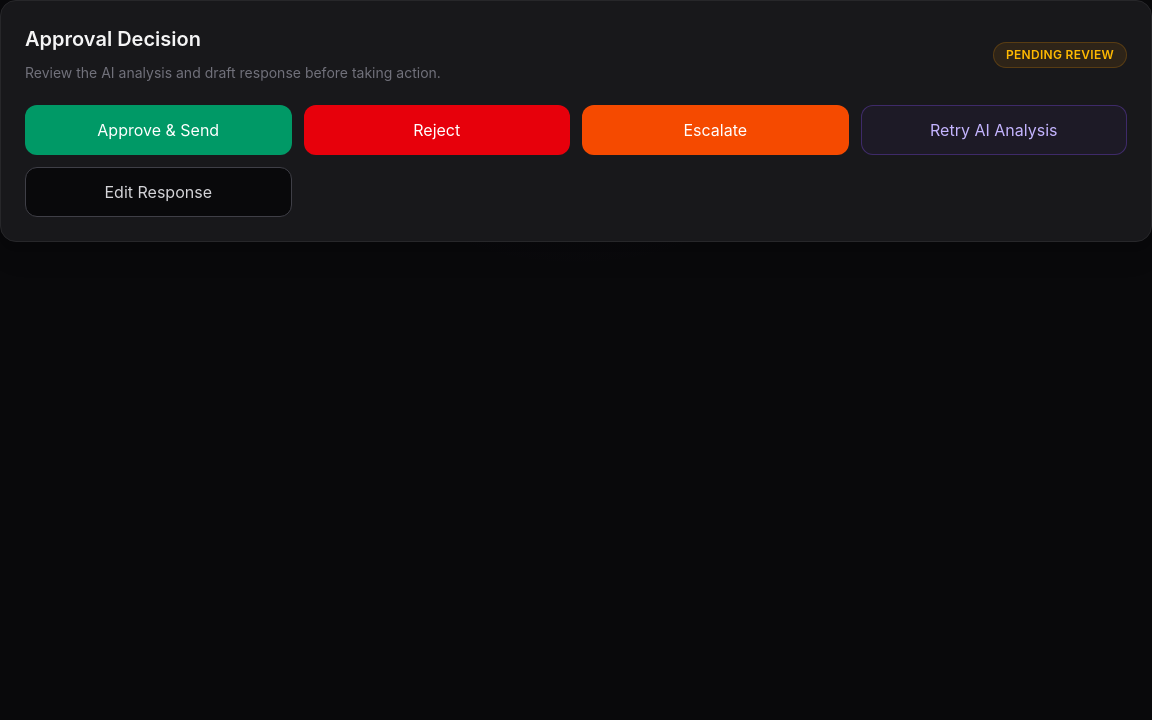
ApprovalActions › requires confirmation before approving
Click the button "Approve & Send" at (158, 130), box [25,105,292,155]
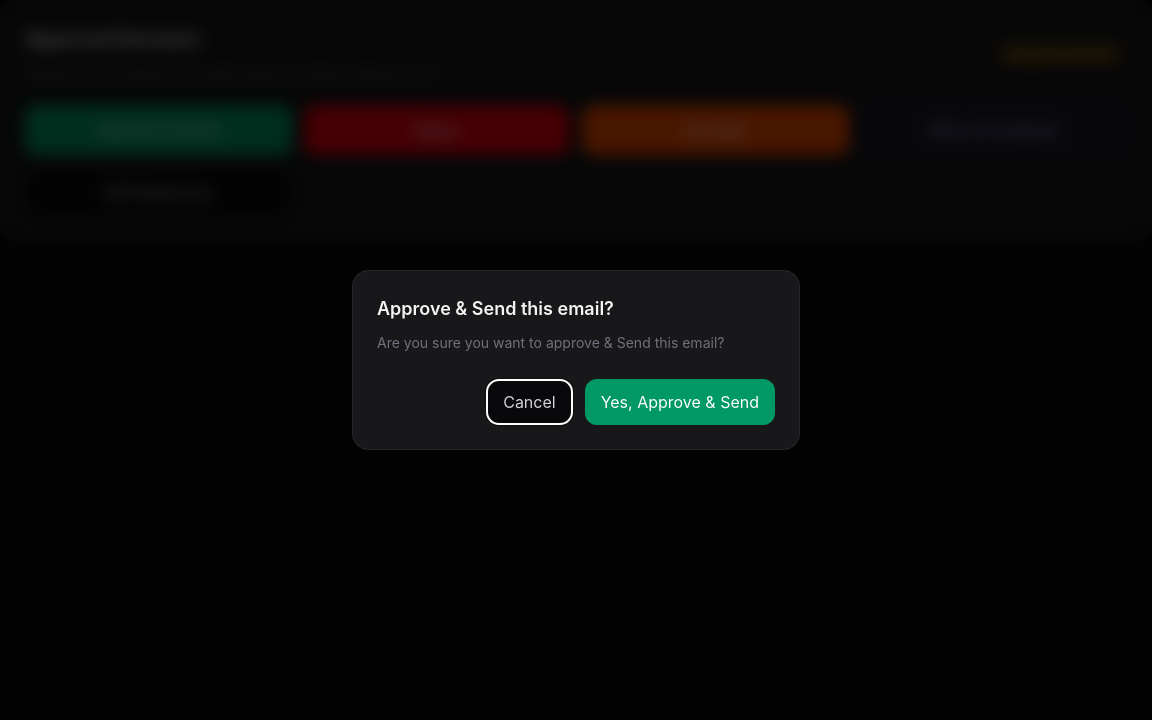
Expected: the heading "Approve & Send this email?" is shown, [377,298,614,319]
